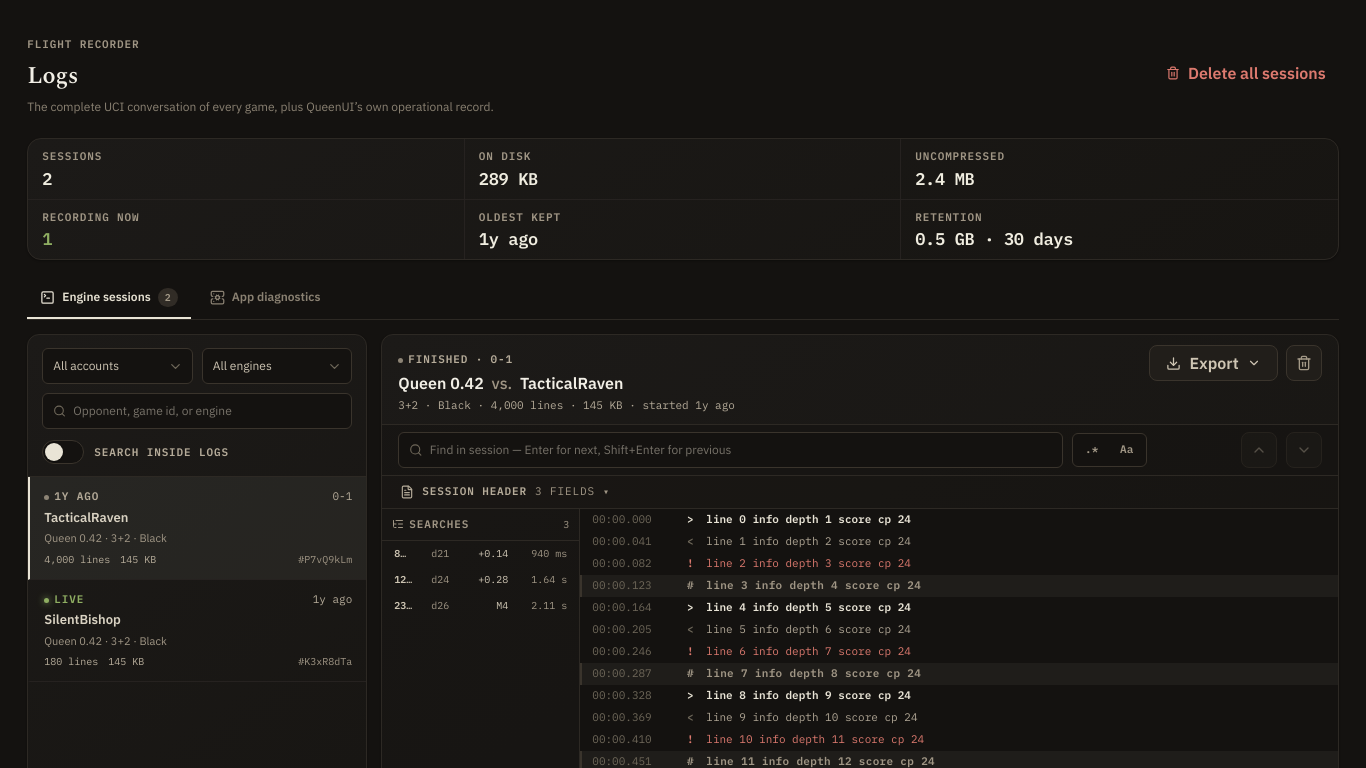
it: LogsPage engine sessions › switches the list into cross-session search mode
Expected: the text "line 0 info depth 1 score cp 24" is shown, [706, 512, 911, 526]
Click the switch named "Search inside logs" at (63, 452), box [42, 440, 84, 464]
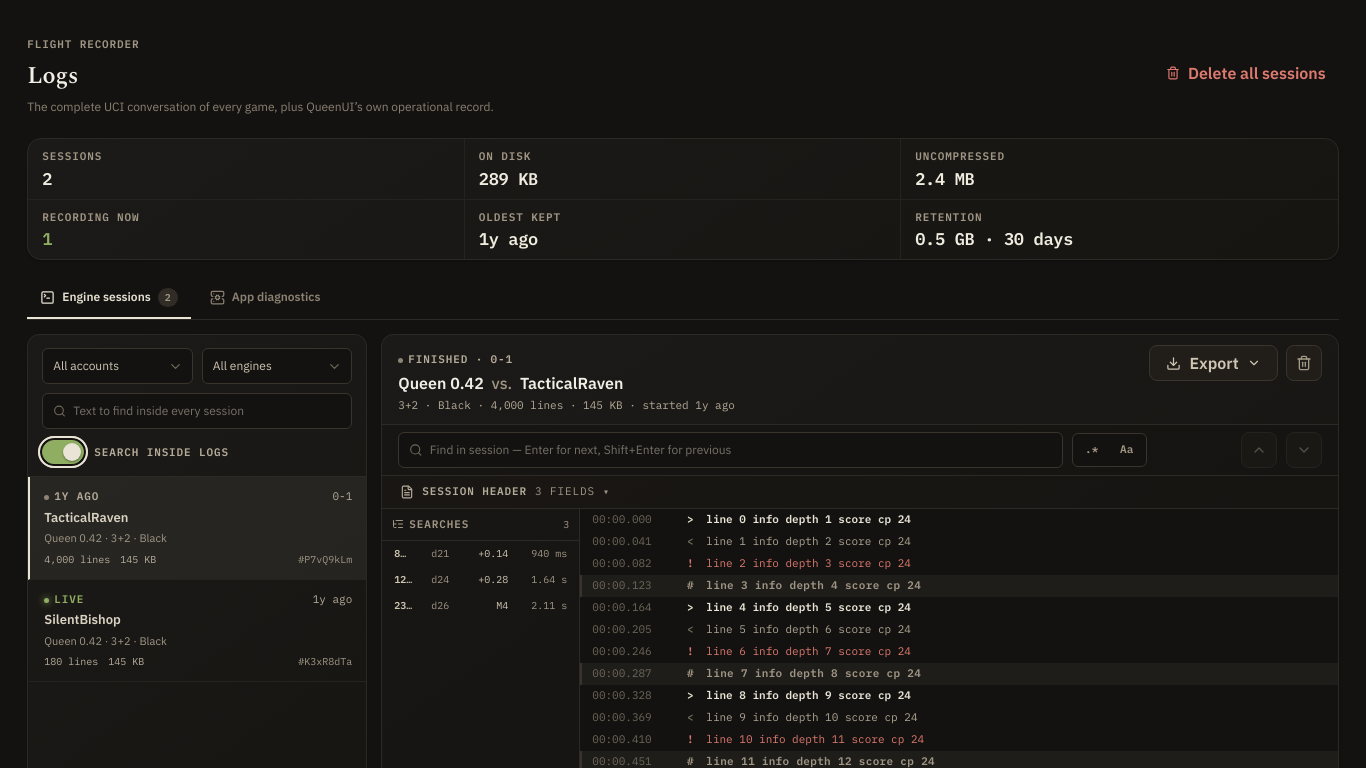
Type "bestmove" into the field named "Filter sessions" at (207, 411), box [73, 402, 341, 420]
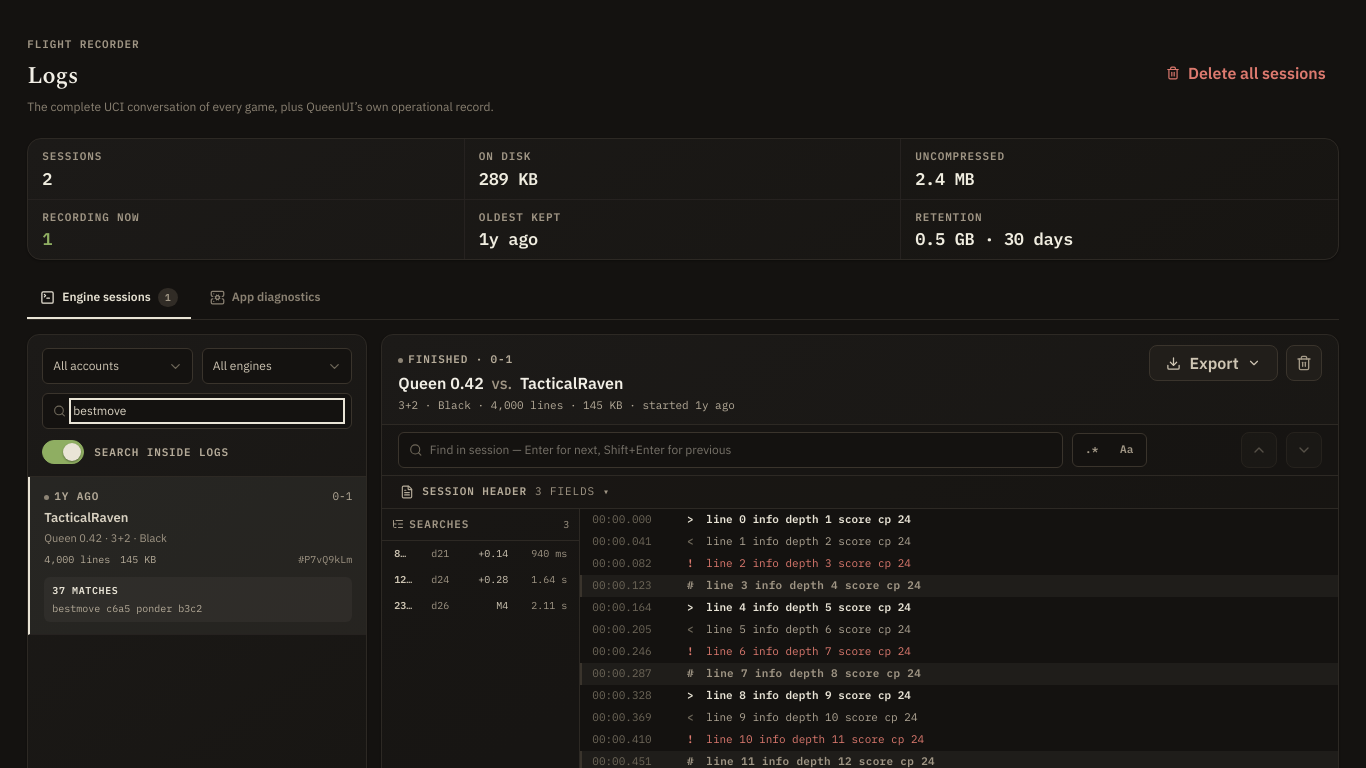
Expected: the text "37 matches" is shown, [52, 584, 118, 596]
Expected: the text "bestmove c6a5 ponder b3c2" is shown, [52, 602, 202, 614]
